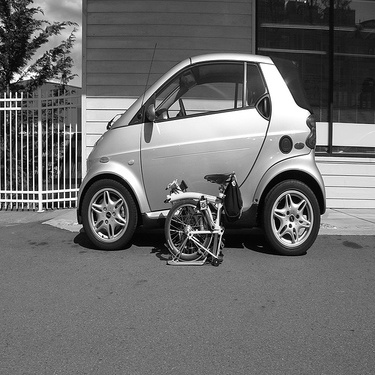car: (71, 52, 332, 258)
